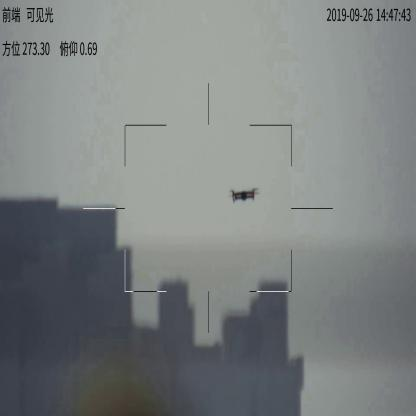uav: (226, 184, 261, 203)
